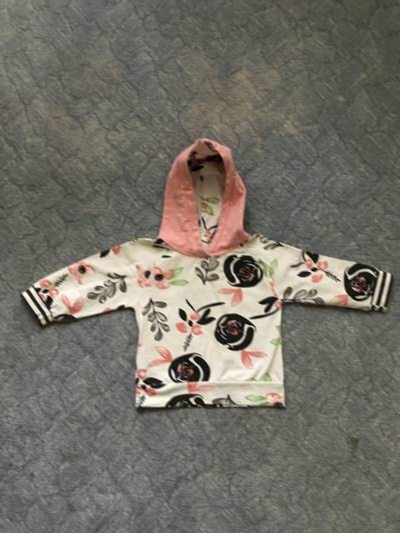Hoodie: (17, 122, 382, 422)
